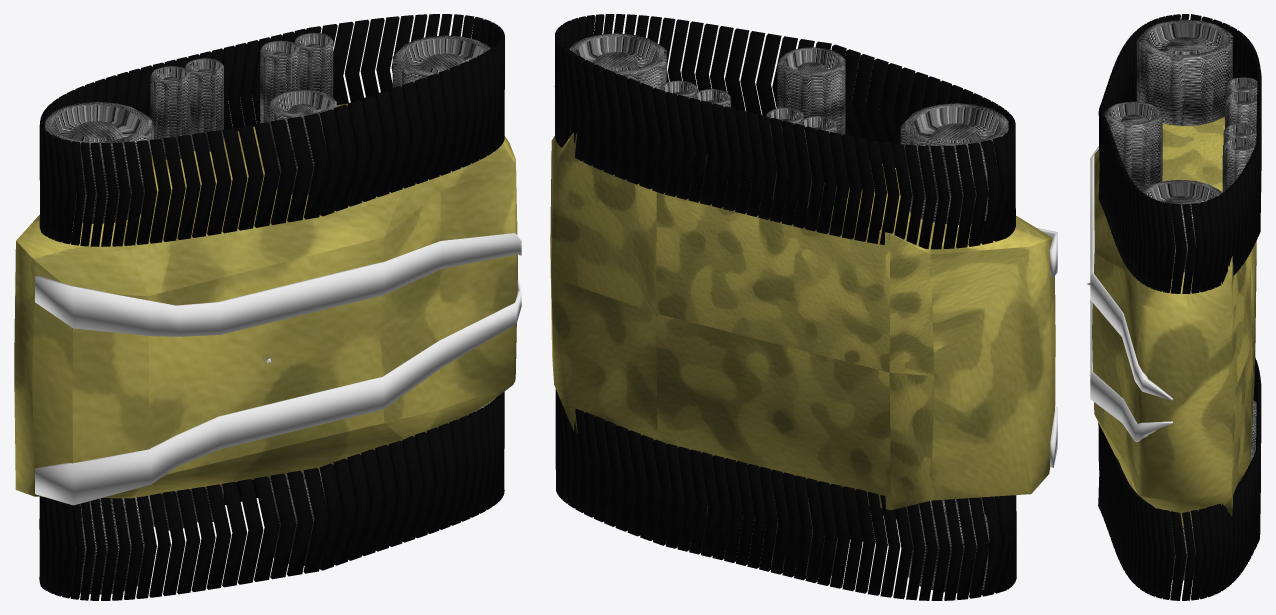
Rendered from Rhino.fbx.
The picture shows the model from 3 angles, left to right: view 1: azimuth 30°, elevation 25°; view 2: azimuth 150°, elevation 25°; view 3: azimuth 270°, elevation 25°; orthographic projection. The views are drawn at different scales.
Parts seen in each view (by area): view 1: Color0, Body0, Color1, Wheels; view 2: Body0, Color0, Wheels, Color1; view 3: Body0, Color0, Wheels, Color1.
Boxes of the visible parts, x1,y1,x2,y2 form: Color0: (39,14,504,600); Body0: (14,103,517,498); Color1: (35,233,521,505); Wheels: (45,32,494,594); Body0: (550,133,1055,510); Color0: (554,14,1016,600); Wheels: (569,33,1008,593); Color1: (1037,228,1057,467); Body0: (1092,116,1256,525); Color0: (1098,14,1261,600); Wheels: (1104,19,1257,580); Color1: (1090,146,1172,441).
Bounding box in the file's own units: 106 × 93.96 × 37.73.
3 materials, 2 textured.
